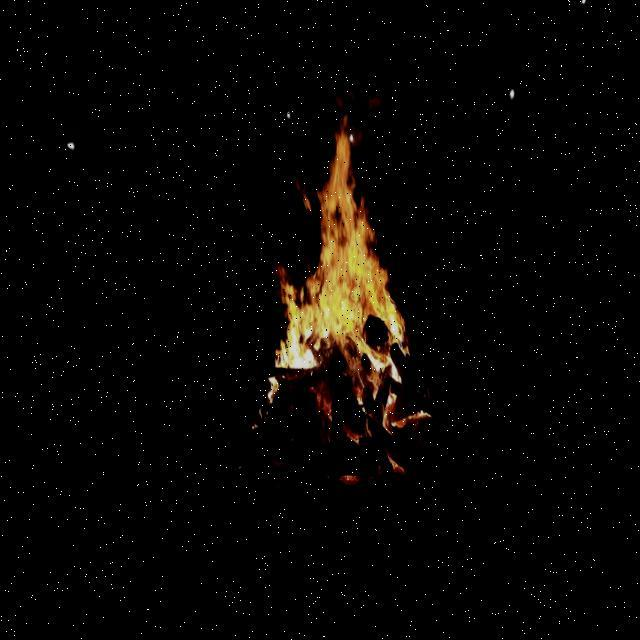Fire: (230, 80, 430, 443), (372, 454, 396, 481), (328, 477, 352, 491)
